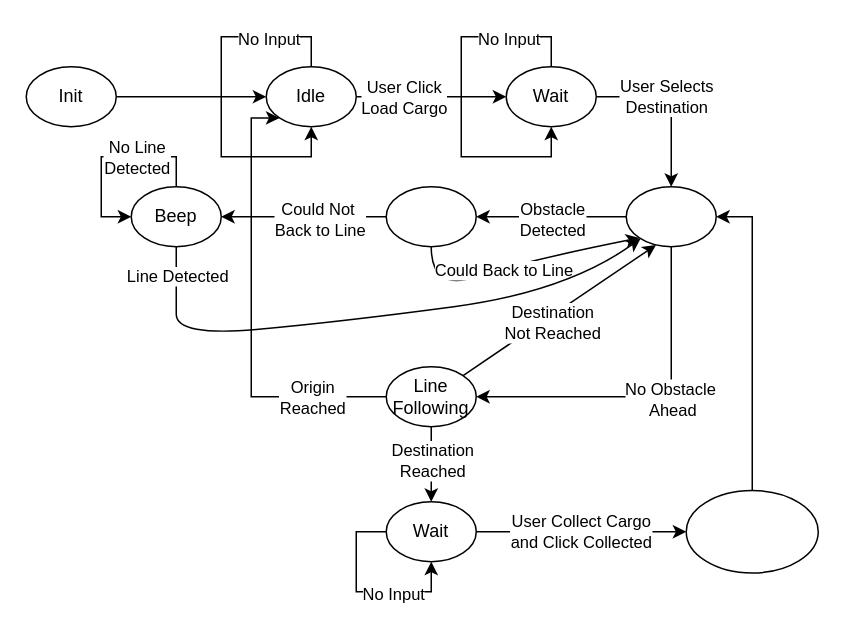
The diagram is 845 pixels wide and 630 high, and some of its shapes have lost their labels. Here are the shapes that lost their labels. From the top down, the centre of each, then its label:
the point at 430,216: Detour
the point at 670,216: Obstacle Detection
the point at 751,531: Set Destination as Origin
